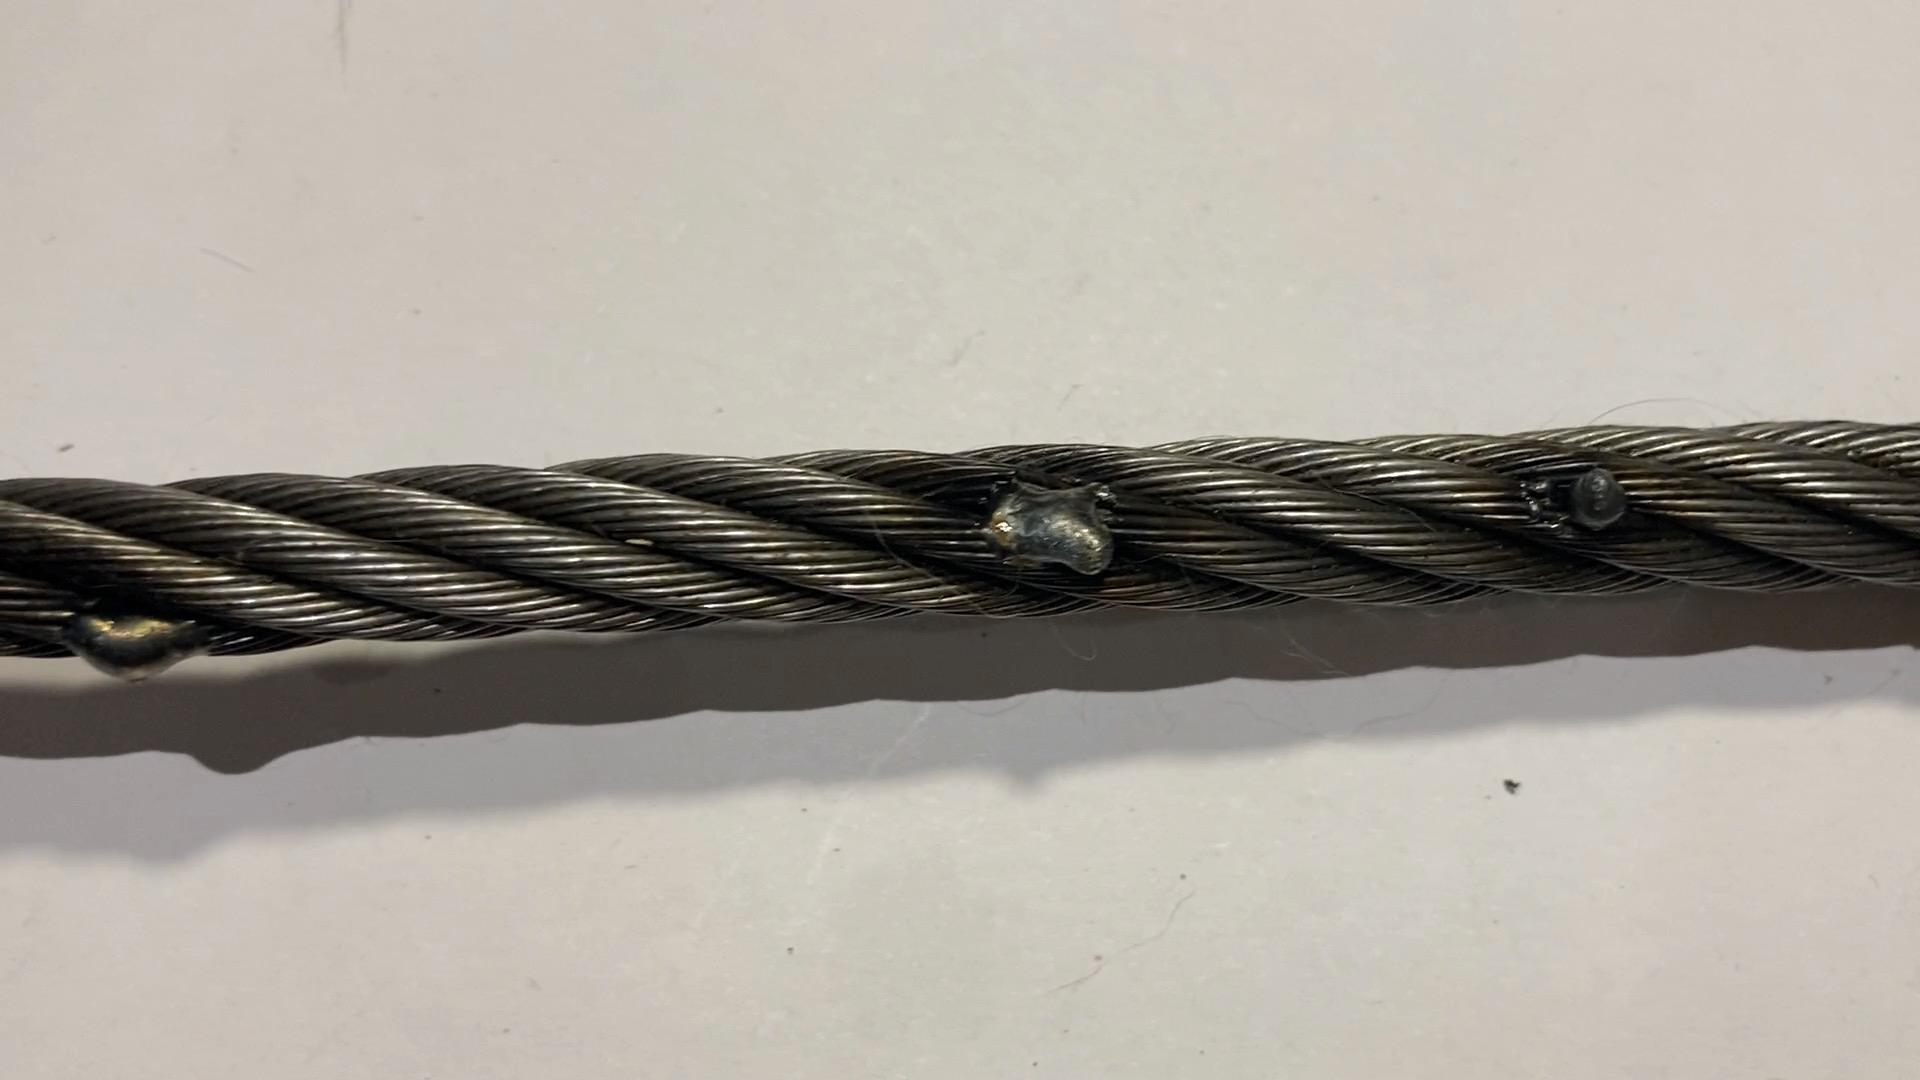thunderbolt: (968, 469, 1121, 587), (1509, 454, 1640, 543)
